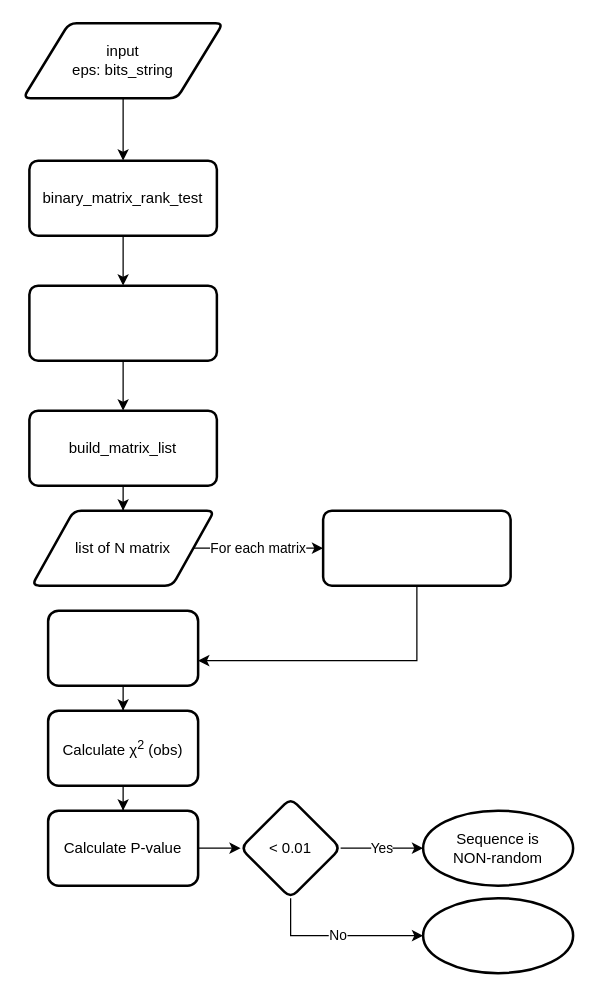
The diagram is 595 pixels wide and 995 high, and some of its shapes have lost their labels. The centre of each missing label's shape, as x and y in pixels:
binary_matrix_rank: [416,547]
Calculate rank frequencies: [122,647]
Sequence is Random: [497,935]
string_to_bitslist: [123,322]
